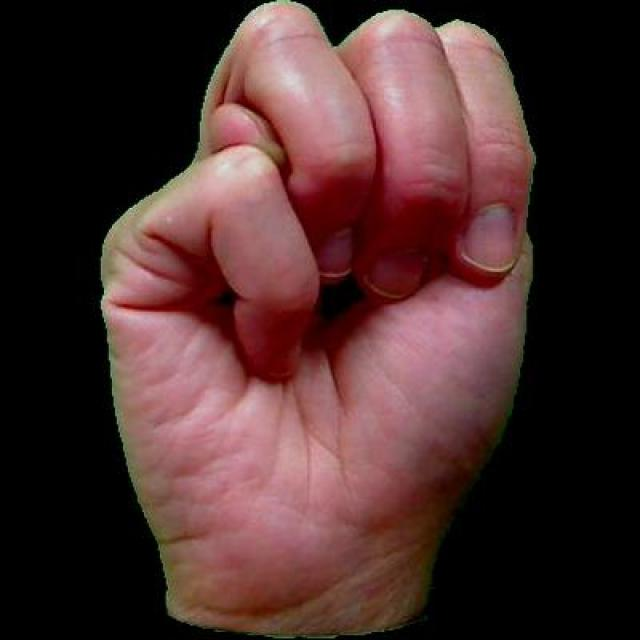m: (74, 0, 536, 637)
